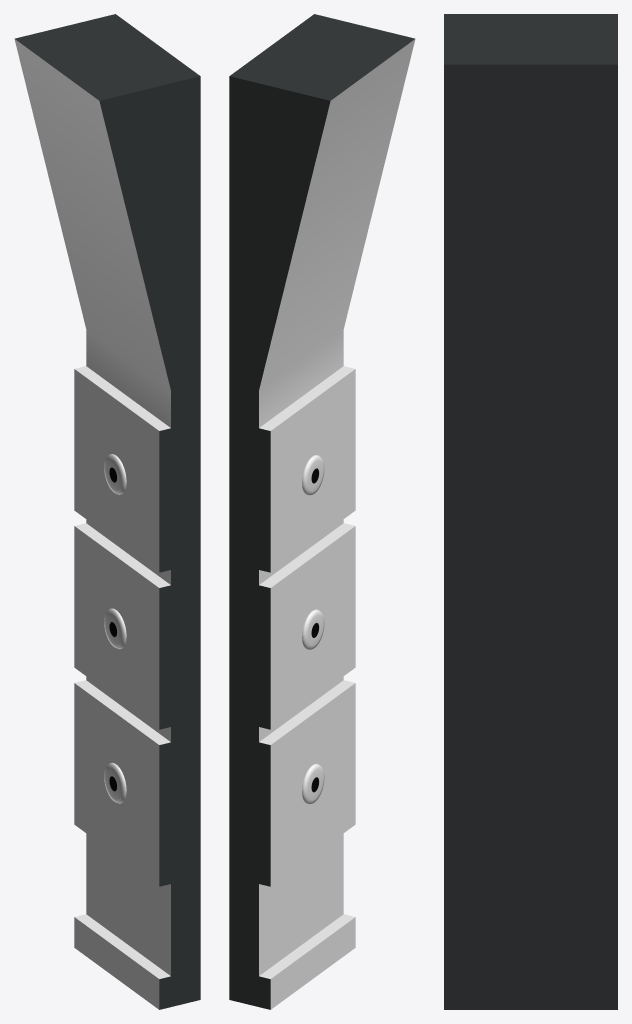
The model's file is Interior_Wall_Lasers.FBX.
3 views of the same model, side by side, from view 1: azimuth 30°, elevation 25°; view 2: azimuth 150°, elevation 25°; view 3: azimuth 270°, elevation 25° (orthographic). The views are drawn at different scales.
Parts seen in each view (by area): view 1: lasery; view 2: lasery; view 3: lasery.
Boxes of the visible parts, x1=… form: lasery: x1=14, y1=14, x2=200, y2=1009; lasery: x1=229, y1=14, x2=415, y2=1009; lasery: x1=444, y1=14, x2=617, y2=1009.
Bounding box in the file's own units: 13.54 × 118 × 19.69.
